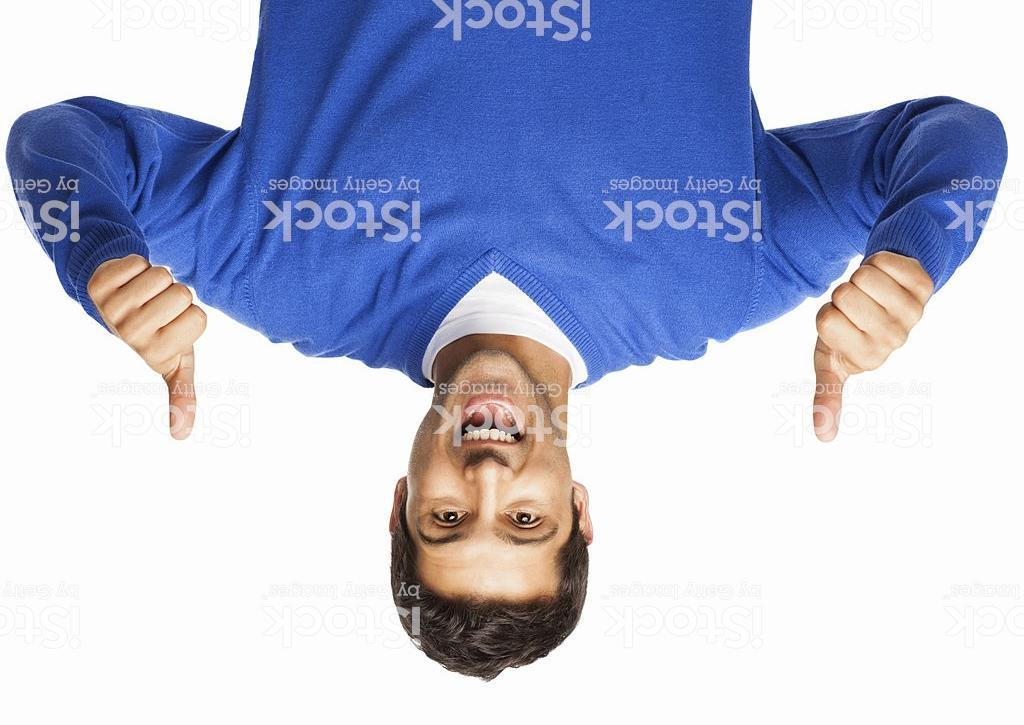thumbsdown: (813, 251, 934, 443), (88, 254, 208, 441)
